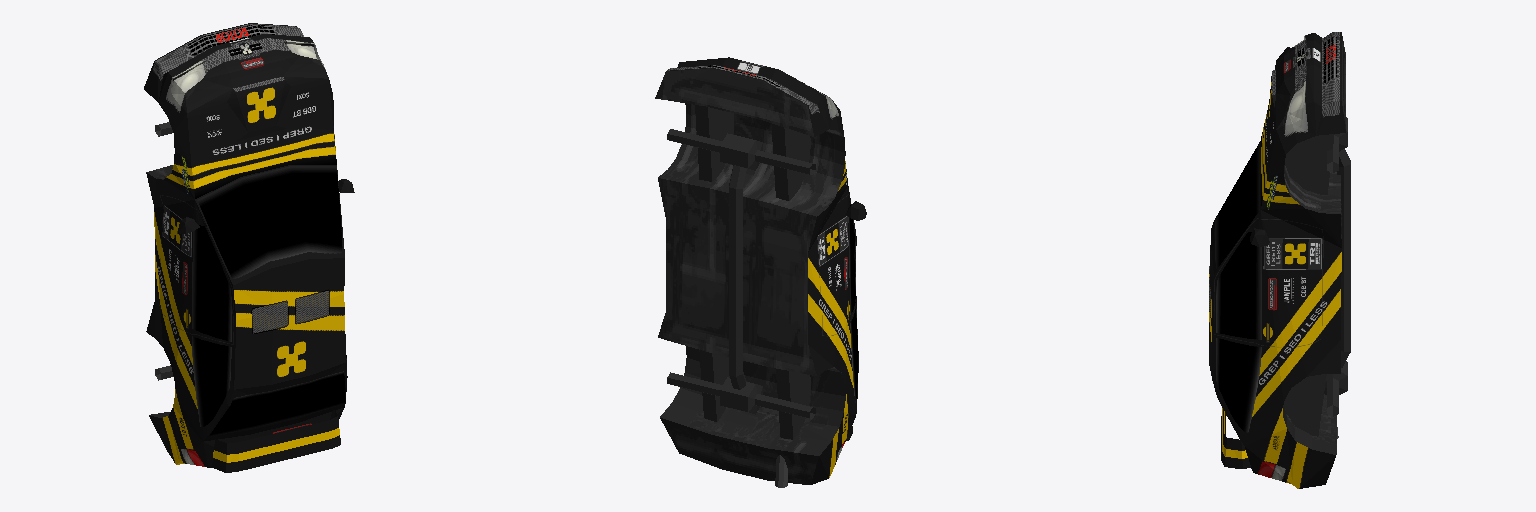
3 views of the same model, side by side, from view 1: azimuth 30°, elevation 25°; view 2: azimuth 150°, elevation 25°; view 3: azimuth 270°, elevation 25° (orthographic).
Visible parts, largest first — view 1: seat_seat.0; view 2: seat_seat.0; view 3: seat_seat.0.
Part boxes in pixels (x1,y1,x2,y2): seat_seat.0: (144, 23, 354, 472); seat_seat.0: (655, 57, 866, 487); seat_seat.0: (1209, 32, 1350, 488).
Size of the model in its own units: 161 by 360 by 113.
Materials: 1 (1 with a texture image).